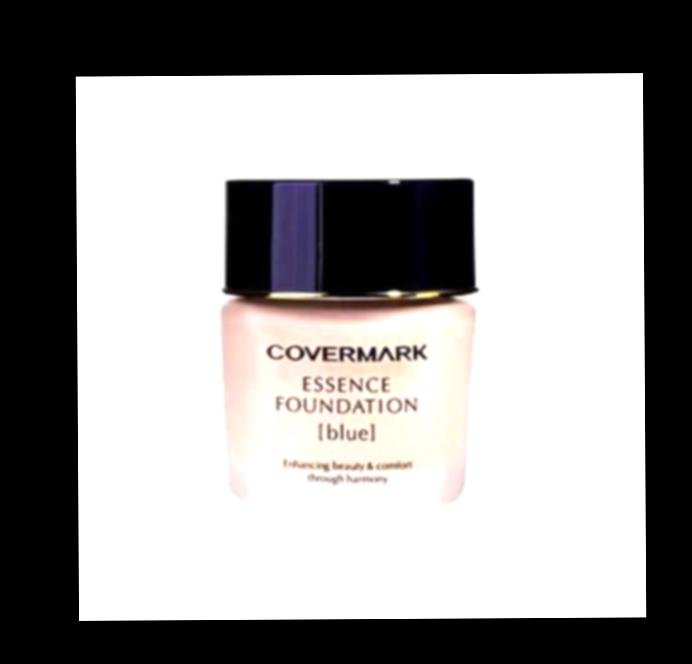cosmetic: (218, 178, 480, 510)
